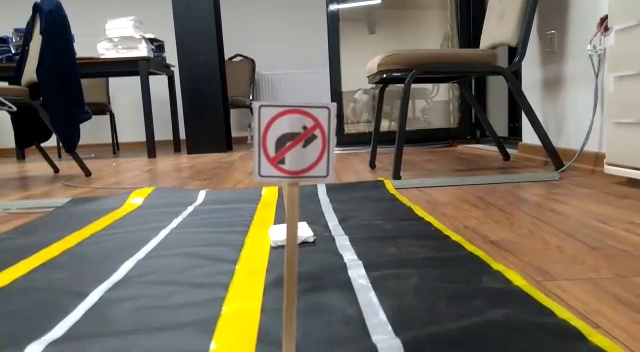sola_donulmez: (255, 101, 330, 181)
